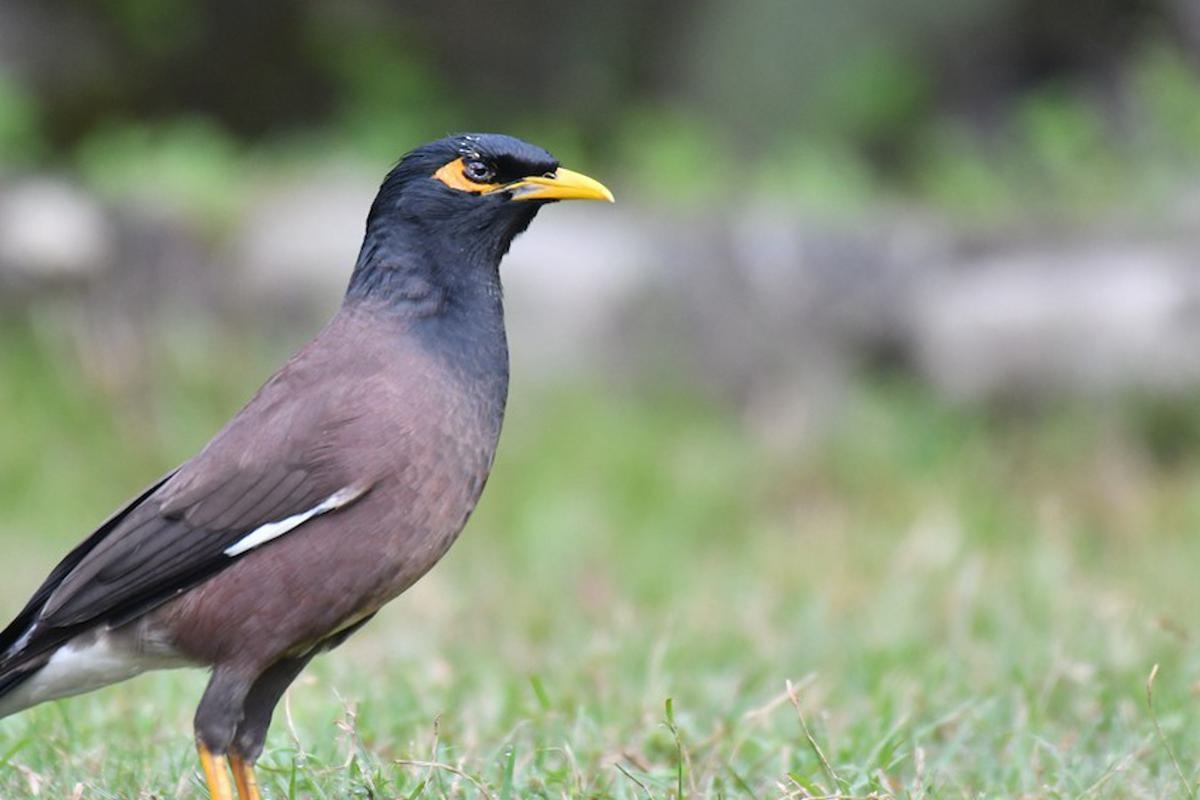myna: (1, 117, 648, 754)
